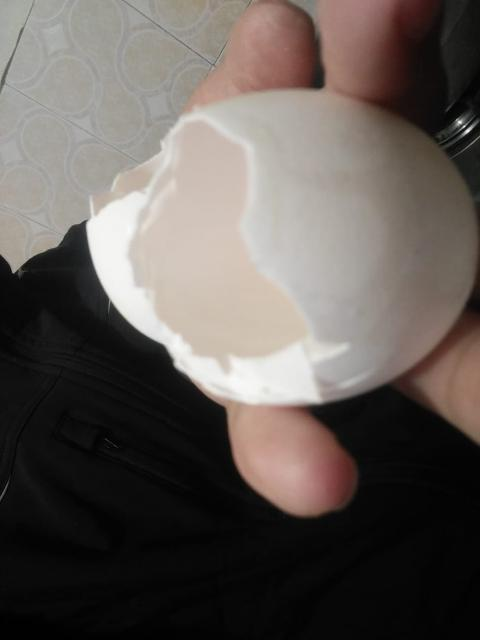Roto: (85, 86, 478, 407)
